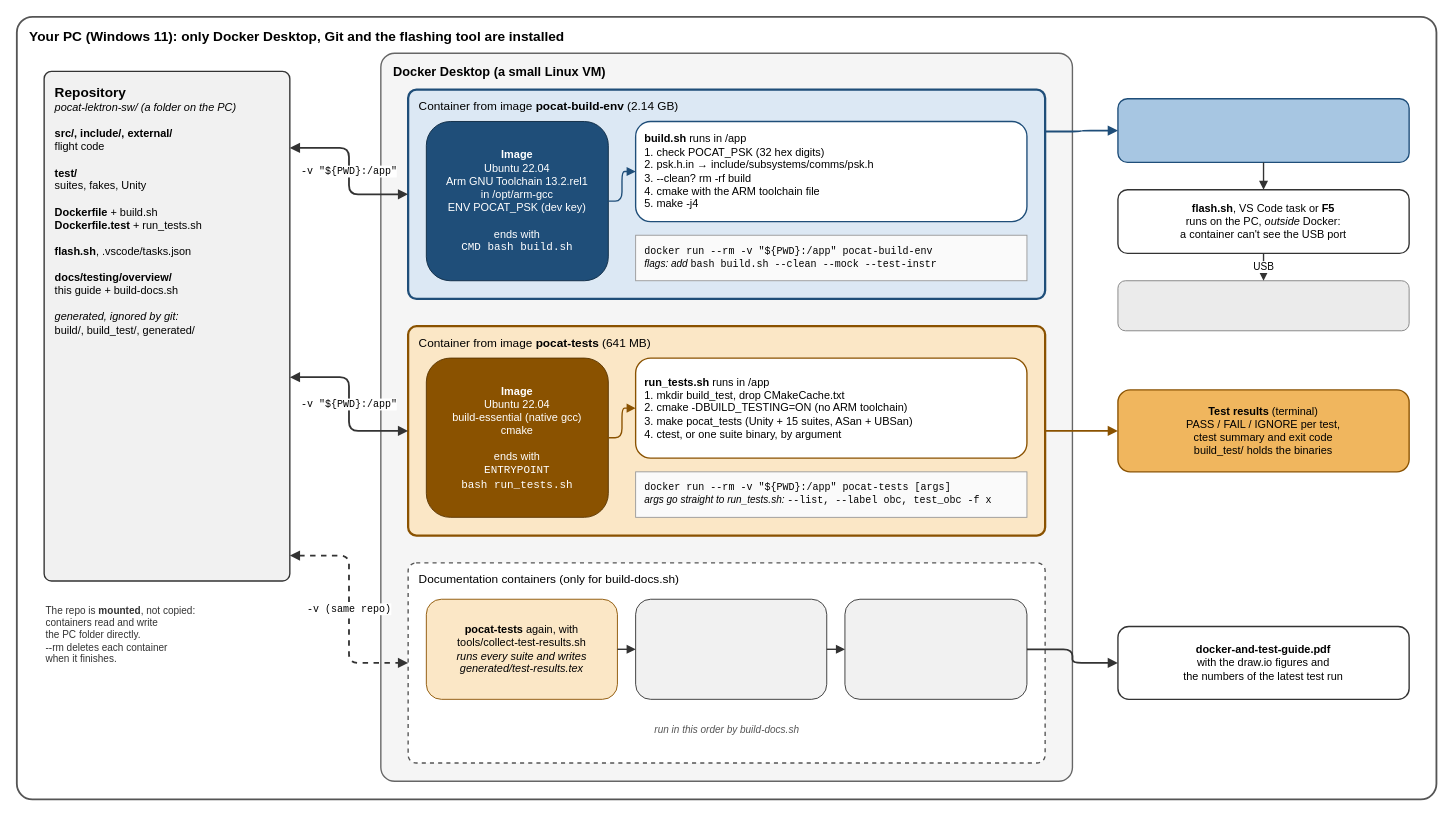
This 1452x815 diagram has some shape labels left out. Each missing label, with the centre of its shape:
build/pocat_lektron_sw.elf firmware for the Cortex-M4F (82 392 bytes of code): point 1263,130
dxjoke/tectonic-docker XeLaTeX: .tex + figures + test results → PDF: point 935,648
Nucleo-L476RG ST-LINK (USB) → SWD → STM32L476RG: point 1263,305
rlespinasse/drawio-export figures/*.drawio → figures/pdf/*.pdf: point 731,648
